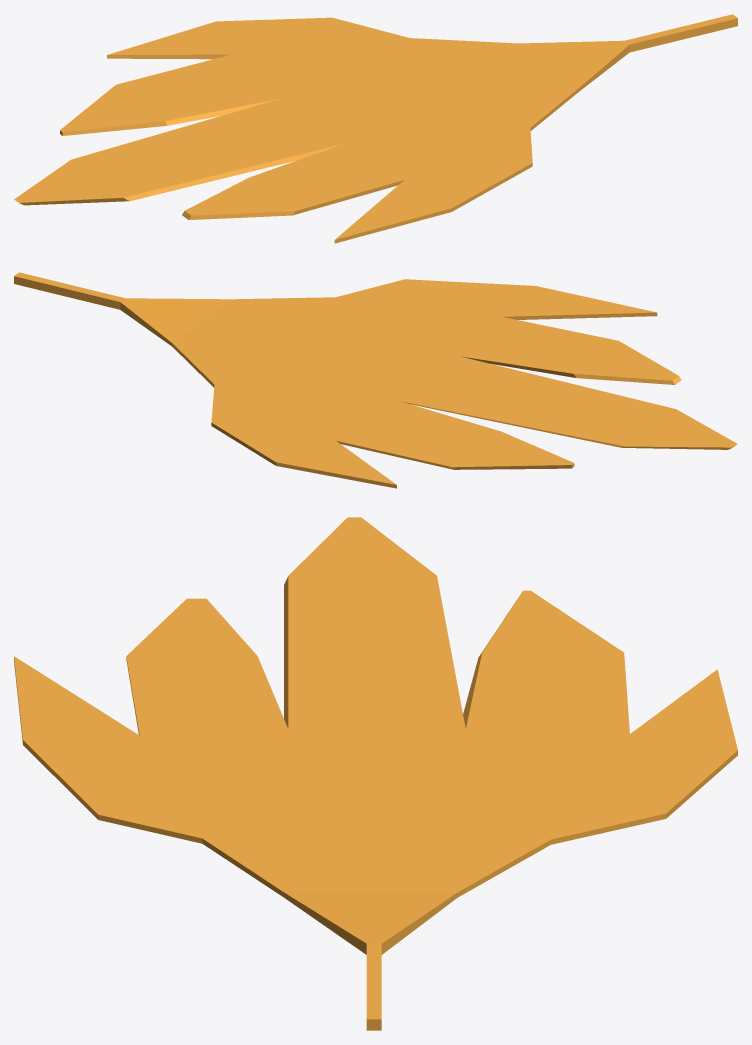
File: LeafYellow.fbx
The picture shows the model from 3 angles, top to bottom: view 1: azimuth 30°, elevation 25°; view 2: azimuth 150°, elevation 25°; view 3: azimuth 270°, elevation 25°; orthographic projection. The views are drawn at different scales.
Visible parts, largest first — view 1: Cube; view 2: Cube; view 3: Cube.
Part boxes in pixels (box(x1,y1,x2,y2)): Cube: box(14, 14, 737, 243); Cube: box(14, 272, 737, 488); Cube: box(14, 517, 737, 1030).
Bounding box in the file's own units: 485 × 5.07 × 293.
